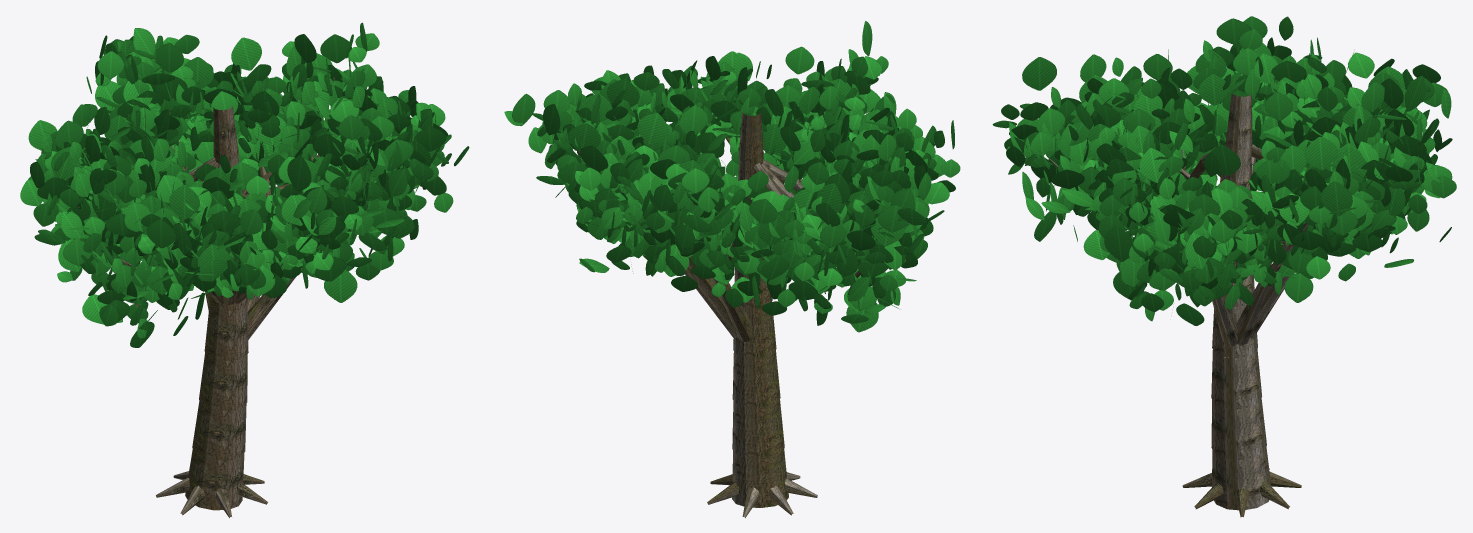
Rendered from windfall-broadleaf-tree.glb.
3 renders of one model, left to right at view 1: azimuth 30°, elevation 25°; view 2: azimuth 150°, elevation 25°; view 3: azimuth 270°, elevation 25°, orthographic. The views are drawn at different scales.
Visible parts, largest first — view 1: windfall-foliage, windfall-bark; view 2: windfall-foliage, windfall-bark; view 3: windfall-foliage, windfall-bark.
Part boxes in pixels (x1,y1,x2,y2): windfall-foliage: (20,22,469,347); windfall-bark: (78,77,369,517); windfall-foliage: (504,21,960,332); windfall-bark: (577,112,873,517); windfall-foliage: (992,16,1456,325); windfall-bark: (1049,92,1308,517).
Bounding box in the file's own units: 6.42 × 6.23 × 6.04.
Materials: 2 (2 with a texture image).
